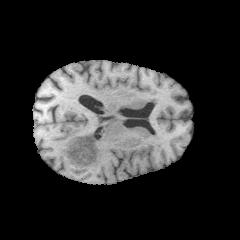glioma: (56, 128, 110, 173)
